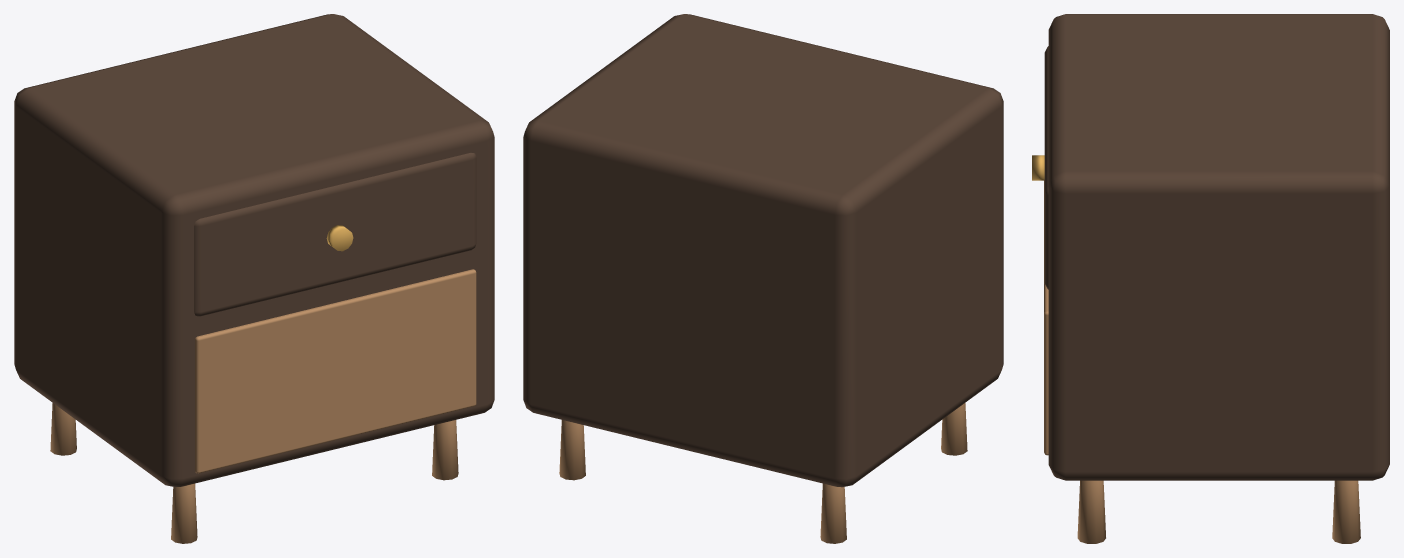
File: side.glb
3 renders of one model, left to right at view 1: azimuth 30°, elevation 25°; view 2: azimuth 150°, elevation 25°; view 3: azimuth 270°, elevation 25°, orthographic. The views are drawn at different scales.
Parts seen in each view (by area): view 1: side; view 2: side; view 3: side.
Part boxes in pixels (x1,y1,x2,y2): side: (14, 14, 494, 543); side: (523, 14, 1003, 543); side: (1032, 14, 1389, 543).
Bounding box in the file's own units: 0.5087 × 0.5244 × 0.4494.
